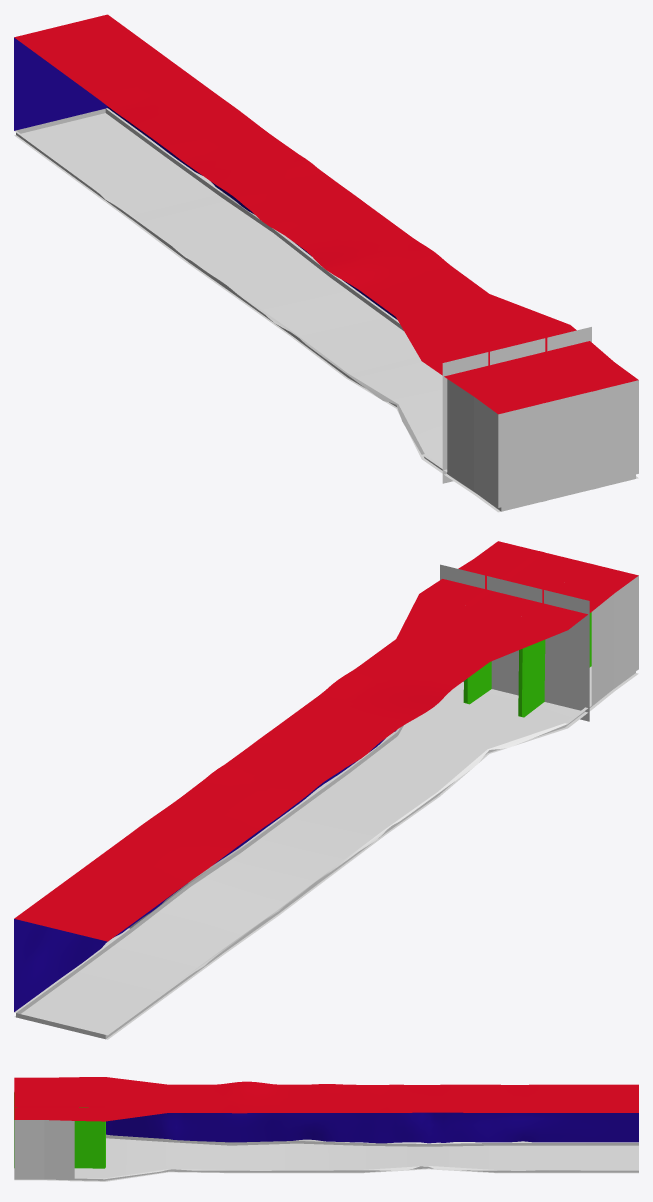
The model's file is Tunnel.fbx.
The picture shows the model from 3 angles, top to bottom: view 1: azimuth 30°, elevation 25°; view 2: azimuth 150°, elevation 25°; view 3: azimuth 270°, elevation 25°; orthographic projection. The views are drawn at different scales.
Parts seen in each view (by area): view 1: Tunnel, PorteDroite, PorteMillieu; view 2: Tunnel, PorteDroite, PorteMillieu; view 3: Tunnel.
Boxes of the visible parts, box(x1,y1,x2,y2) form: Tunnel: box(14, 14, 638, 512); PorteDroite: box(442, 352, 488, 483); PorteMillieu: box(490, 338, 545, 365); Tunnel: box(14, 541, 638, 1039); PorteDroite: box(544, 590, 589, 721); PorteMillieu: box(487, 576, 542, 695); Tunnel: box(14, 1077, 638, 1181).
Size of the model in its own units: 1550 by 1197 by 9125.
